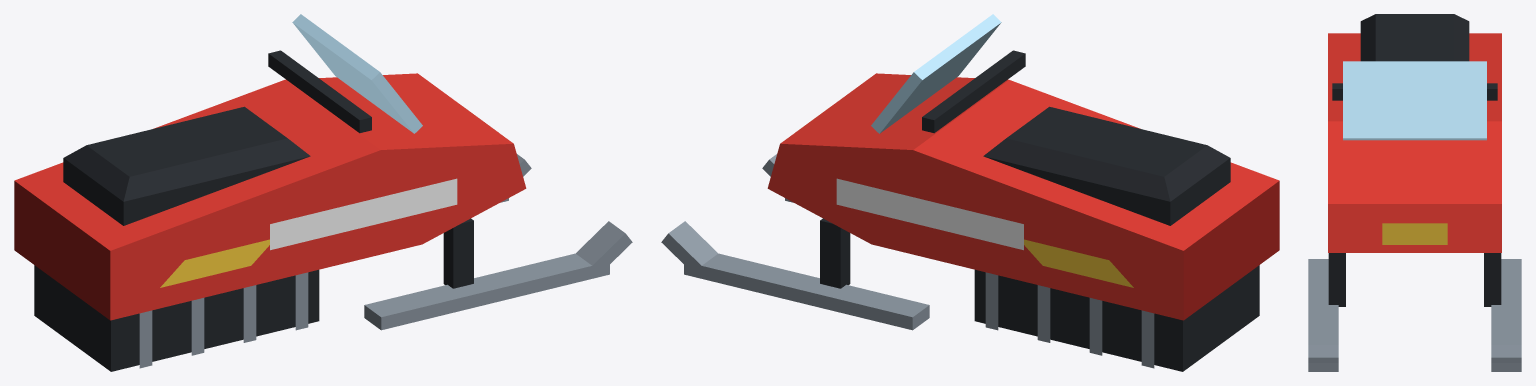
The model's file is snowmobile.glb.
The picture shows the model from 3 angles, left to right: view 1: azimuth 30°, elevation 25°; view 2: azimuth 150°, elevation 25°; view 3: azimuth 270°, elevation 25°; orthographic projection. The views are drawn at different scales.
Visible parts, largest first — view 1: snowmobile; view 2: snowmobile; view 3: snowmobile.
Part boxes in pixels (x1=…): snowmobile: x1=14, y1=14, x2=632, y2=371; snowmobile: x1=661, y1=14, x2=1279, y2=371; snowmobile: x1=1308, y1=14, x2=1521, y2=371.
Size of the model in its own units: 0.2459 by 0.1102 by 0.098.
